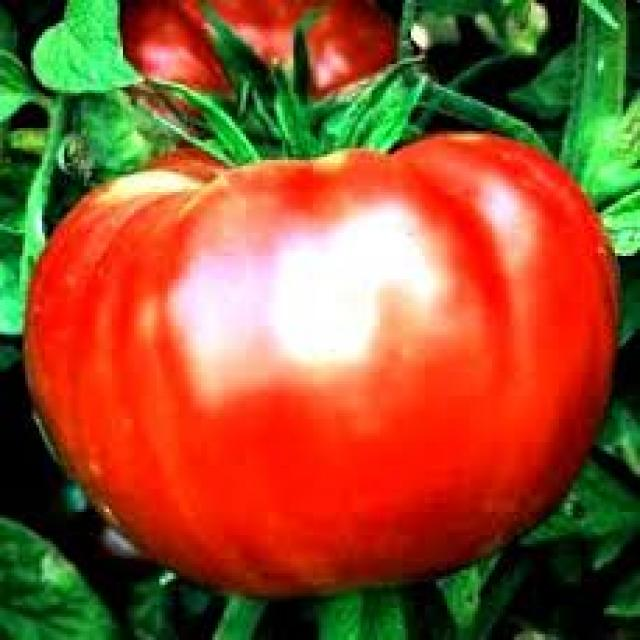organic waste: (16, 119, 618, 591), (106, 0, 394, 134)
